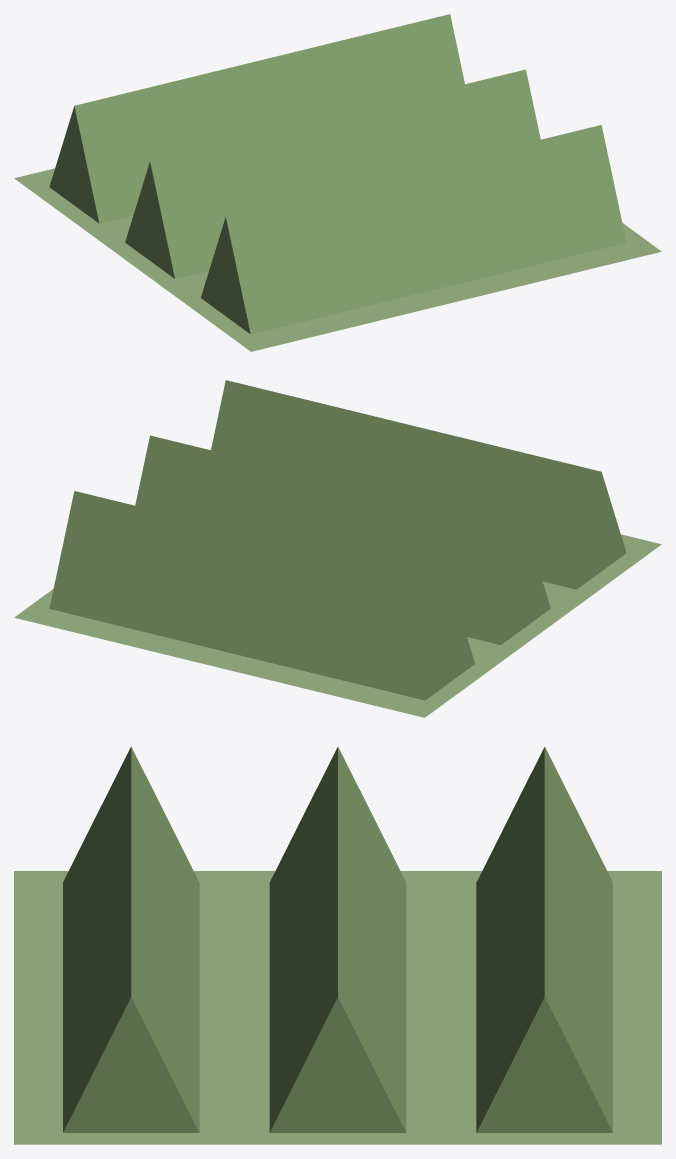
Rendered from hemp_field.glb.
3 renders of one model, top to bottom at view 1: azimuth 30°, elevation 25°; view 2: azimuth 150°, elevation 25°; view 3: azimuth 270°, elevation 25°, orthographic. The views are drawn at different scales.
Visible parts, largest first — view 1: hemp_field; view 2: hemp_field; view 3: hemp_field.
Boxes of the visible parts, x1,y1,x2,y2 form: hemp_field: (14, 14, 661, 351); hemp_field: (14, 380, 661, 717); hemp_field: (14, 746, 661, 1144).
Bounding box in the file's own units: 0.94 × 0.22 × 0.94.
